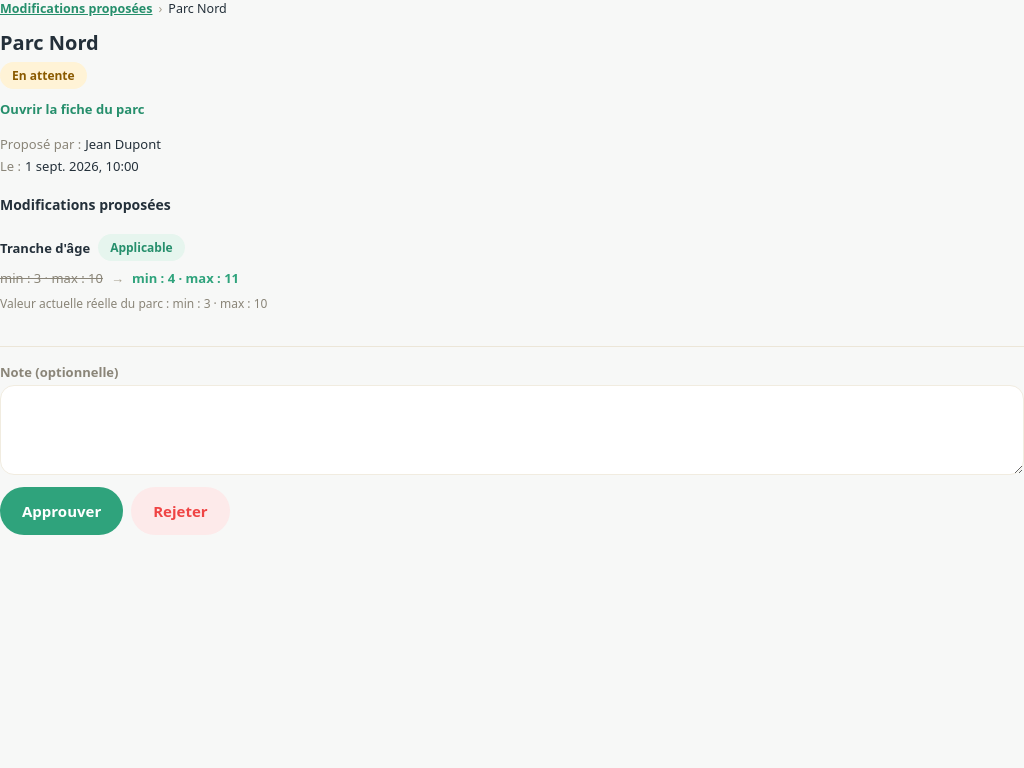
Test case: ValidationDetail — Admin-3B-2 › pending, sans conflit : classe l'item Applicable et approuve via la RPC après confirmation
Expected: the heading "Parc Nord" is shown, [0,29,99,56]
Expected: the text "Applicable" is shown, [98,234,185,261]
Step 1. Click the button "Approuver" → (62, 511), box [0,487,123,535]
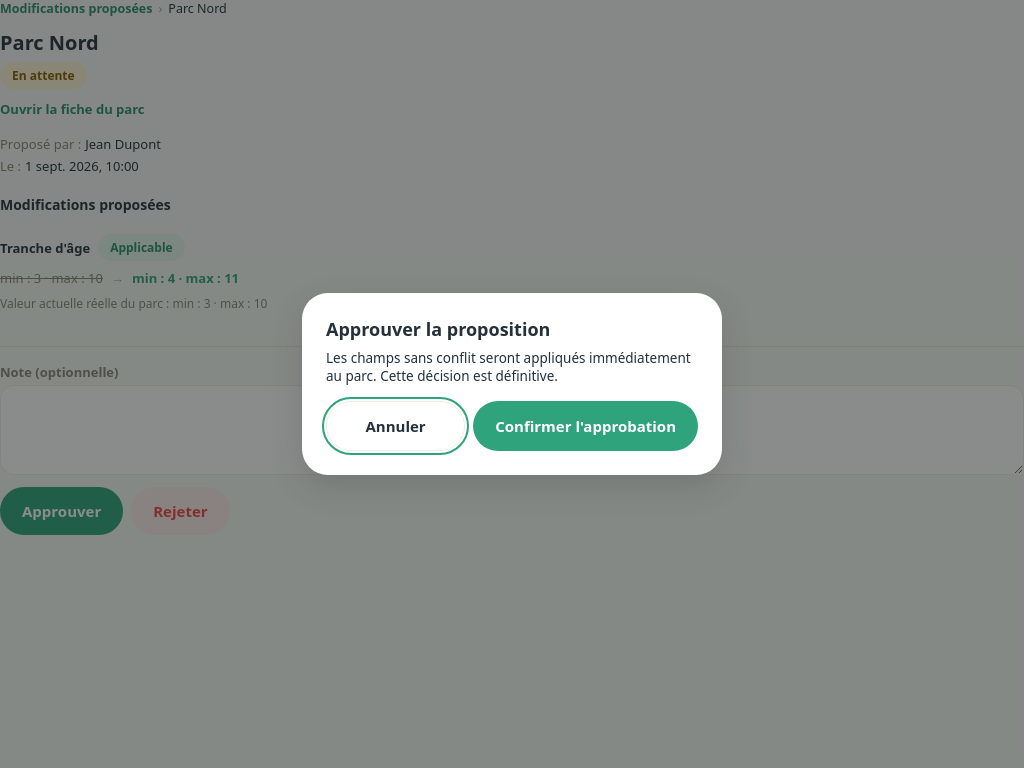
Expected: the heading "Approuver la proposition" is shown, [326,317,550,341]
Step 2. Click the button "Confirmer l'approbation" → (586, 426), box [473,401,698,451]
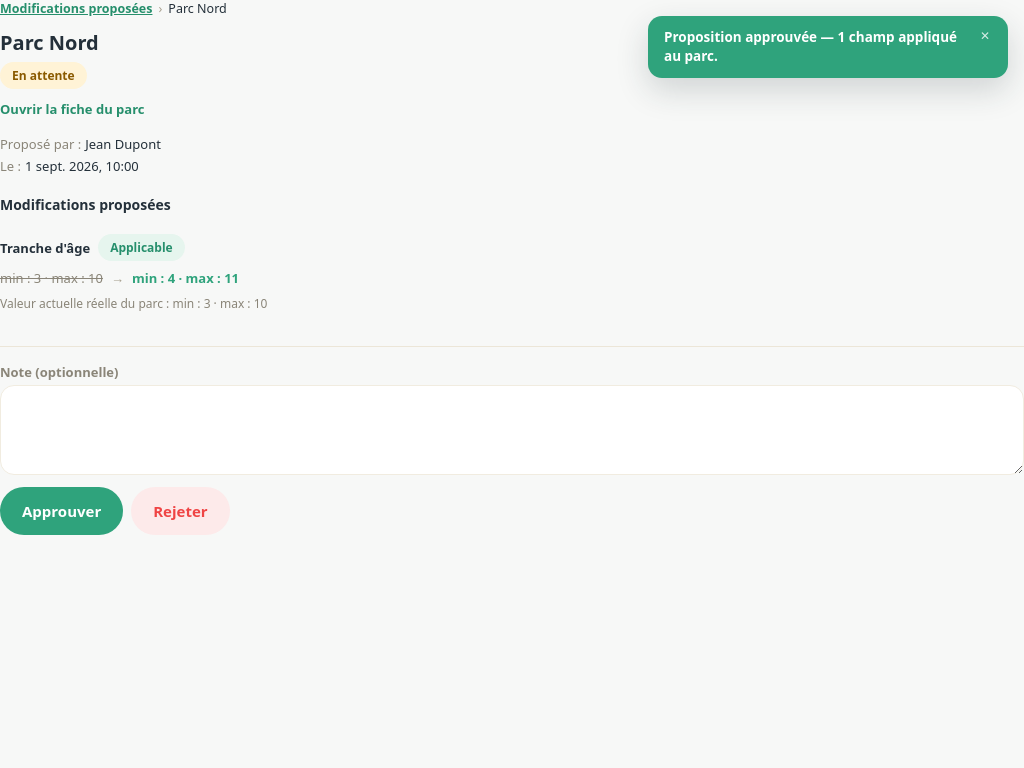
Expected: the text "Proposition approuvée — 1 champ appliqué au parc." is shown, [664,28,966,66]
